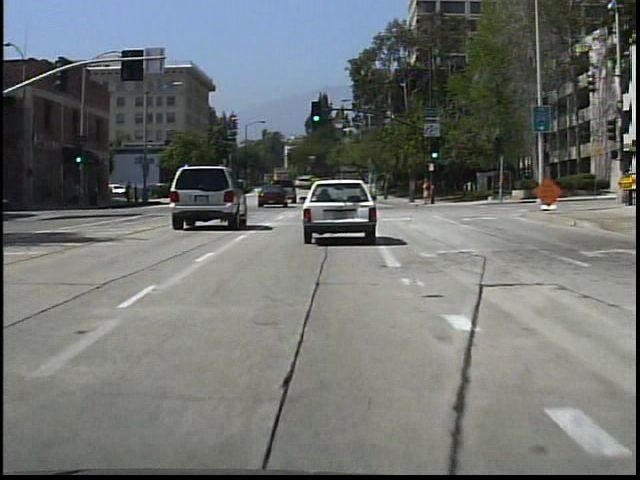person: (417, 174, 434, 209)
